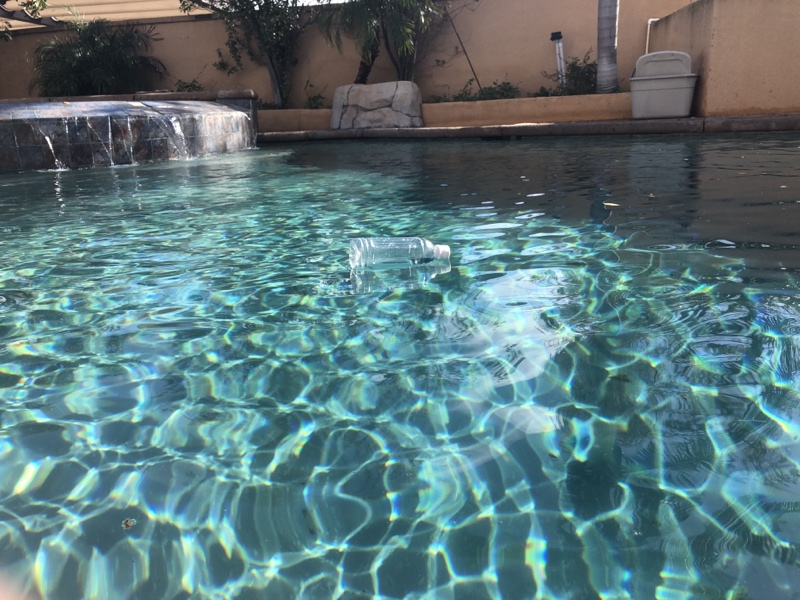Plastic Bottle: (344, 232, 454, 278)
